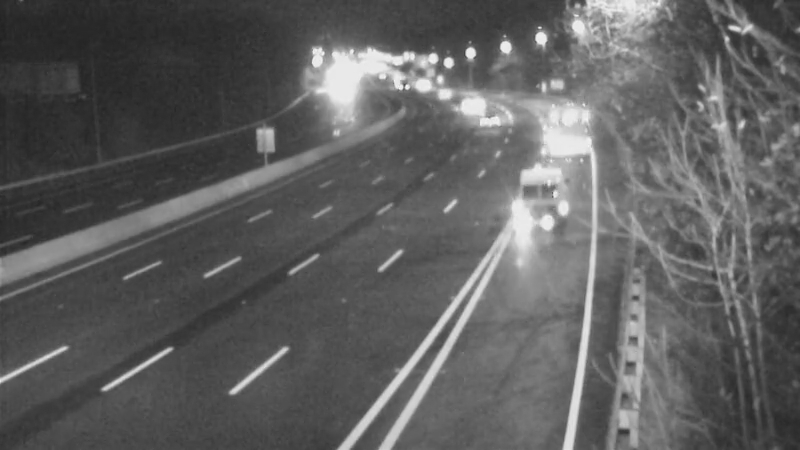vehicle: (491, 153, 571, 233), (416, 66, 466, 116), (446, 76, 496, 126), (465, 96, 515, 146), (537, 108, 587, 158)
